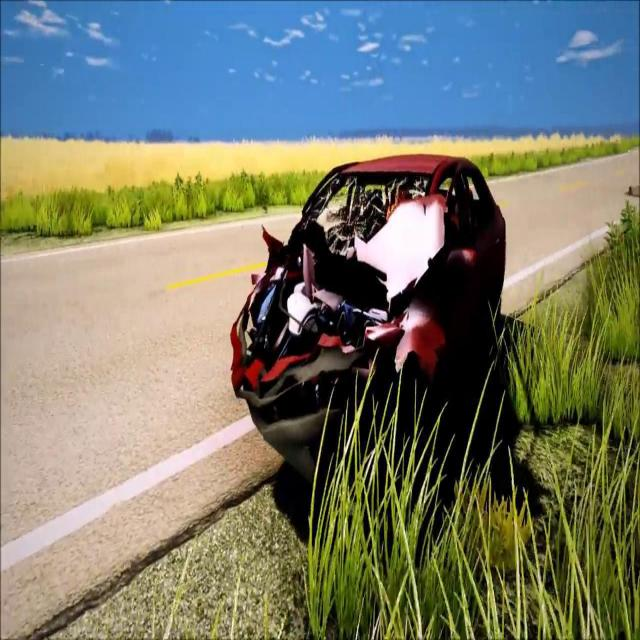accident: (228, 156, 514, 457)
